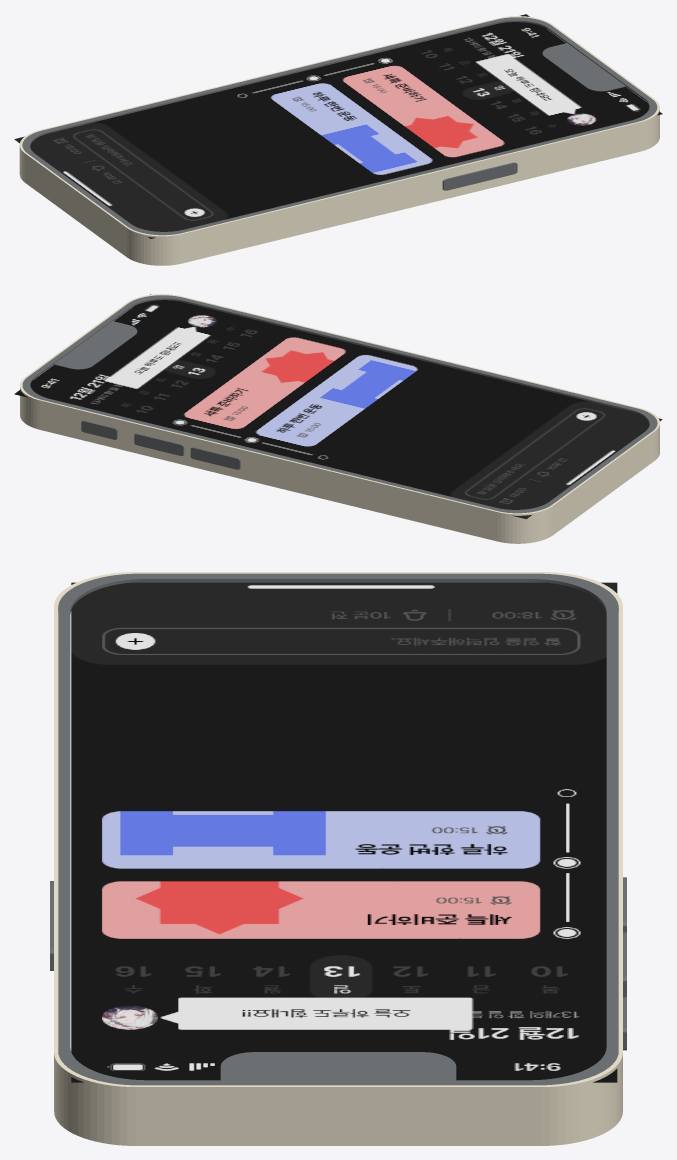
File: plock_iphone.glb
The picture shows the model from 3 angles, top to bottom: view 1: azimuth 30°, elevation 25°; view 2: azimuth 150°, elevation 25°; view 3: azimuth 270°, elevation 25°; orthographic projection. The views are drawn at different scales.
Parts seen in each view (by area): view 1: Cube, imagetostl_mesh0; view 2: Cube, imagetostl_mesh0; view 3: Cube, imagetostl_mesh0.
Part boxes in pixels (x1,y1,x2,y2): Cube: (14,14,662,238); imagetostl_mesh0: (19,16,659,265); Cube: (14,294,662,519); imagetostl_mesh0: (20,294,659,543); Cube: (71,582,617,1082); imagetostl_mesh0: (50,572,626,1145).
Size of the model in its own units: 150 by 8 by 71.
Materials: 5 (1 with a texture image).
